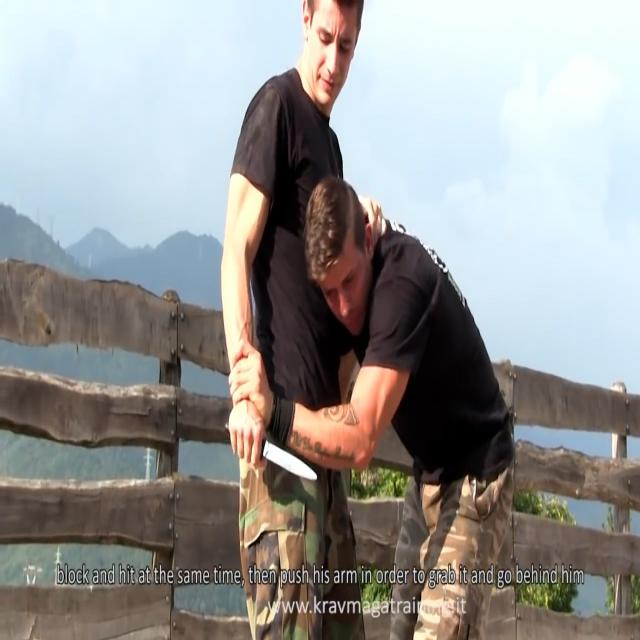knife: (262, 438, 320, 487)
